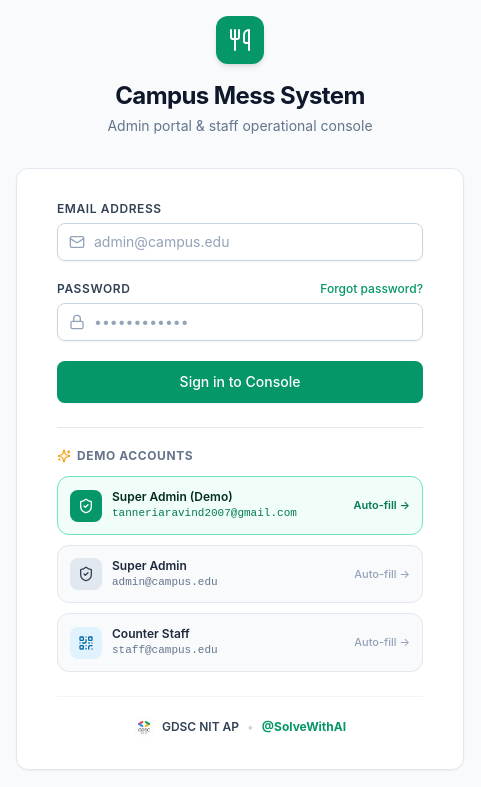
LoginPage Demo Login & Mock Password Reset Workflow › Demo Login Presets › populates Super Admin credentials into form when card is clicked
Click the button "Super Admin admin@campus.edu Auto-fill →" at (86, 574), box x1=57 y1=545 x2=423 y2=603
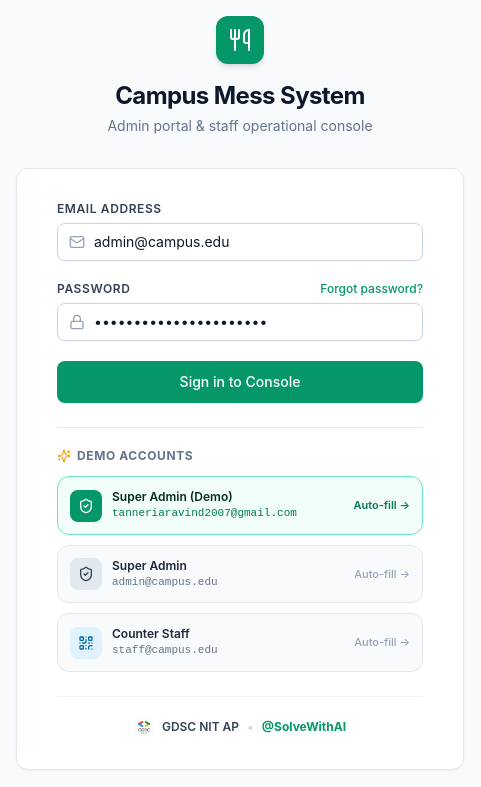
Check: the field labelled "Email Address" holds "admin@campus.edu", box x1=57 y1=223 x2=423 y2=261
Check: the password field labelled "Password" holds "SuperAdminPassword123!", box x1=57 y1=303 x2=423 y2=341
